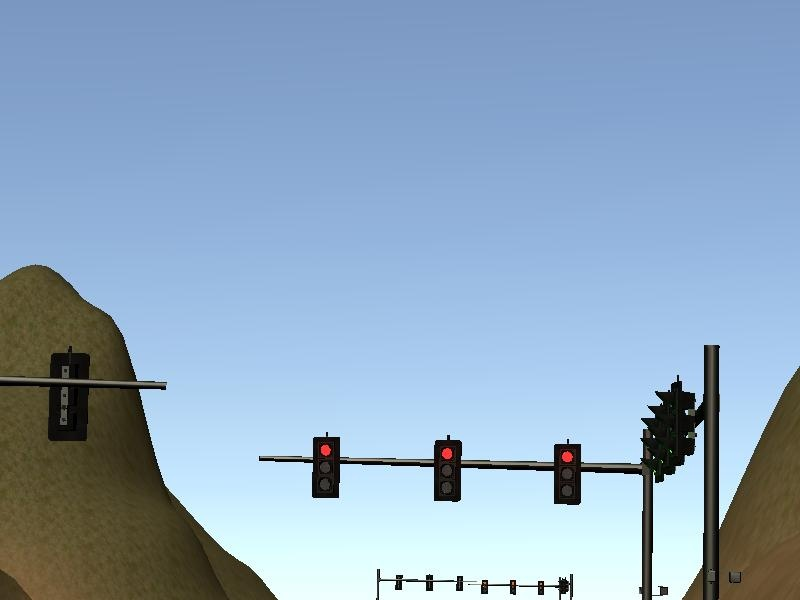red: (548, 441, 587, 508), (307, 431, 343, 502), (430, 435, 466, 505)
